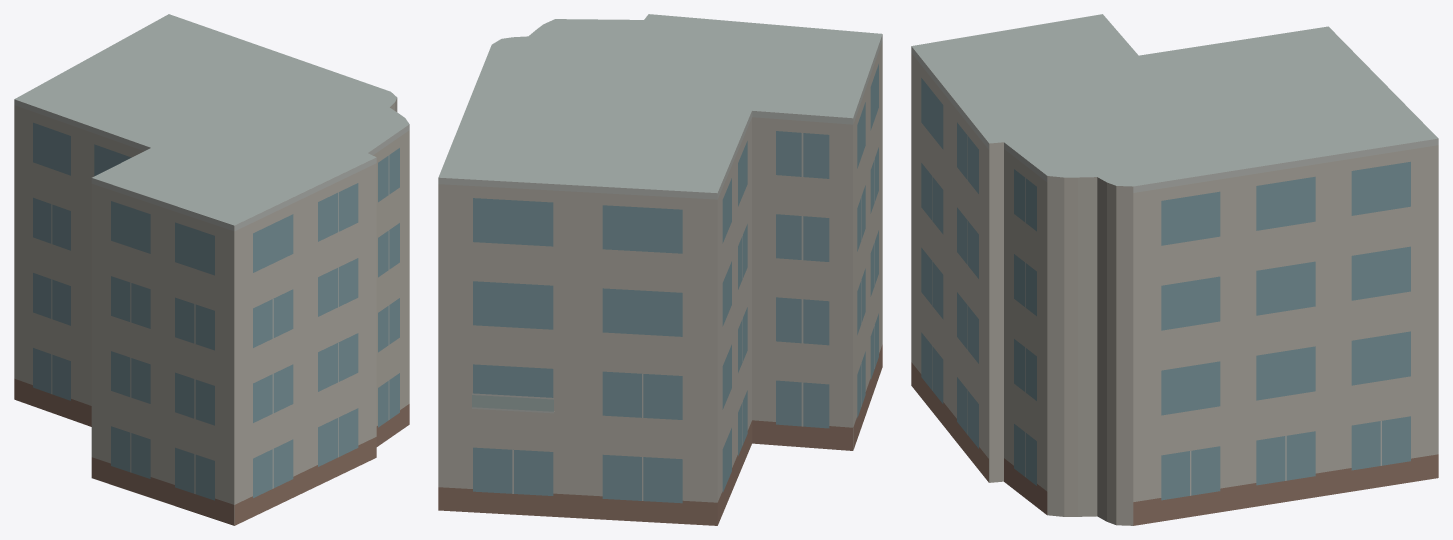
The model's file is survey-upis-32725072.glb.
The picture shows the model from 3 angles, left to right: view 1: azimuth 30°, elevation 25°; view 2: azimuth 150°, elevation 25°; view 3: azimuth 270°, elevation 25°; orthographic projection. The views are drawn at different scales.
Parts seen in each view (by area): view 1: survey-upis-32725072.tmp; view 2: survey-upis-32725072.tmp; view 3: survey-upis-32725072.tmp.
Boxes of the visible parts, box(x1,y1,x2,y2) form: survey-upis-32725072.tmp: box(14, 14, 409, 525); survey-upis-32725072.tmp: box(438, 14, 882, 525); survey-upis-32725072.tmp: box(911, 14, 1438, 525).
Bounding box in the file's own units: 13.74 × 12.6 × 17.75.
